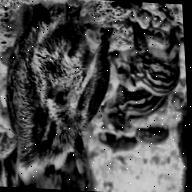boar: (0, 0, 122, 190)
